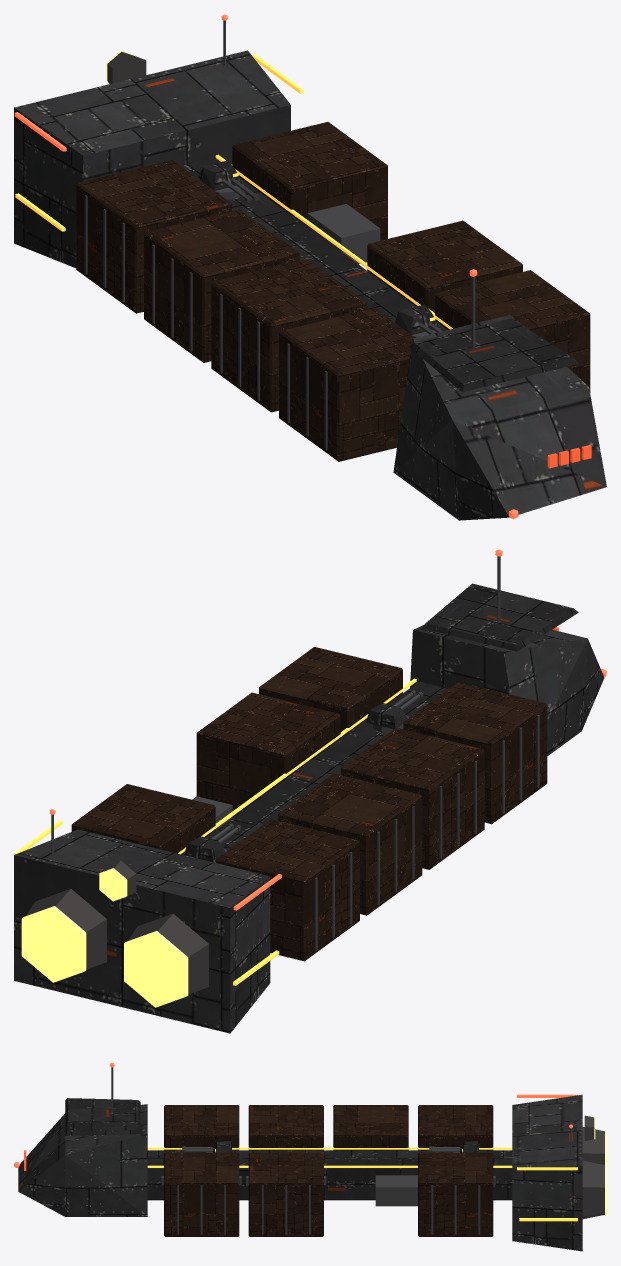
Rendered from hauler.glb.
3 views of the same model, one above another, from view 1: azimuth 30°, elevation 25°; view 2: azimuth 150°, elevation 25°; view 3: azimuth 270°, elevation 25° (orthographic). The views are drawn at different scales.
Parts seen in each view (by area): view 1: hauler; view 2: hauler; view 3: hauler.
Boxes of the visible parts, x1=… form: hauler: x1=14, y1=14, x2=606, y2=520; hauler: x1=14, y1=549, x2=606, y2=1033; hauler: x1=14, y1=1062, x2=606, y2=1251.
Bounding box in the file's own units: 7.88 × 6.72 × 25.21.
9 materials, 3 textured.
